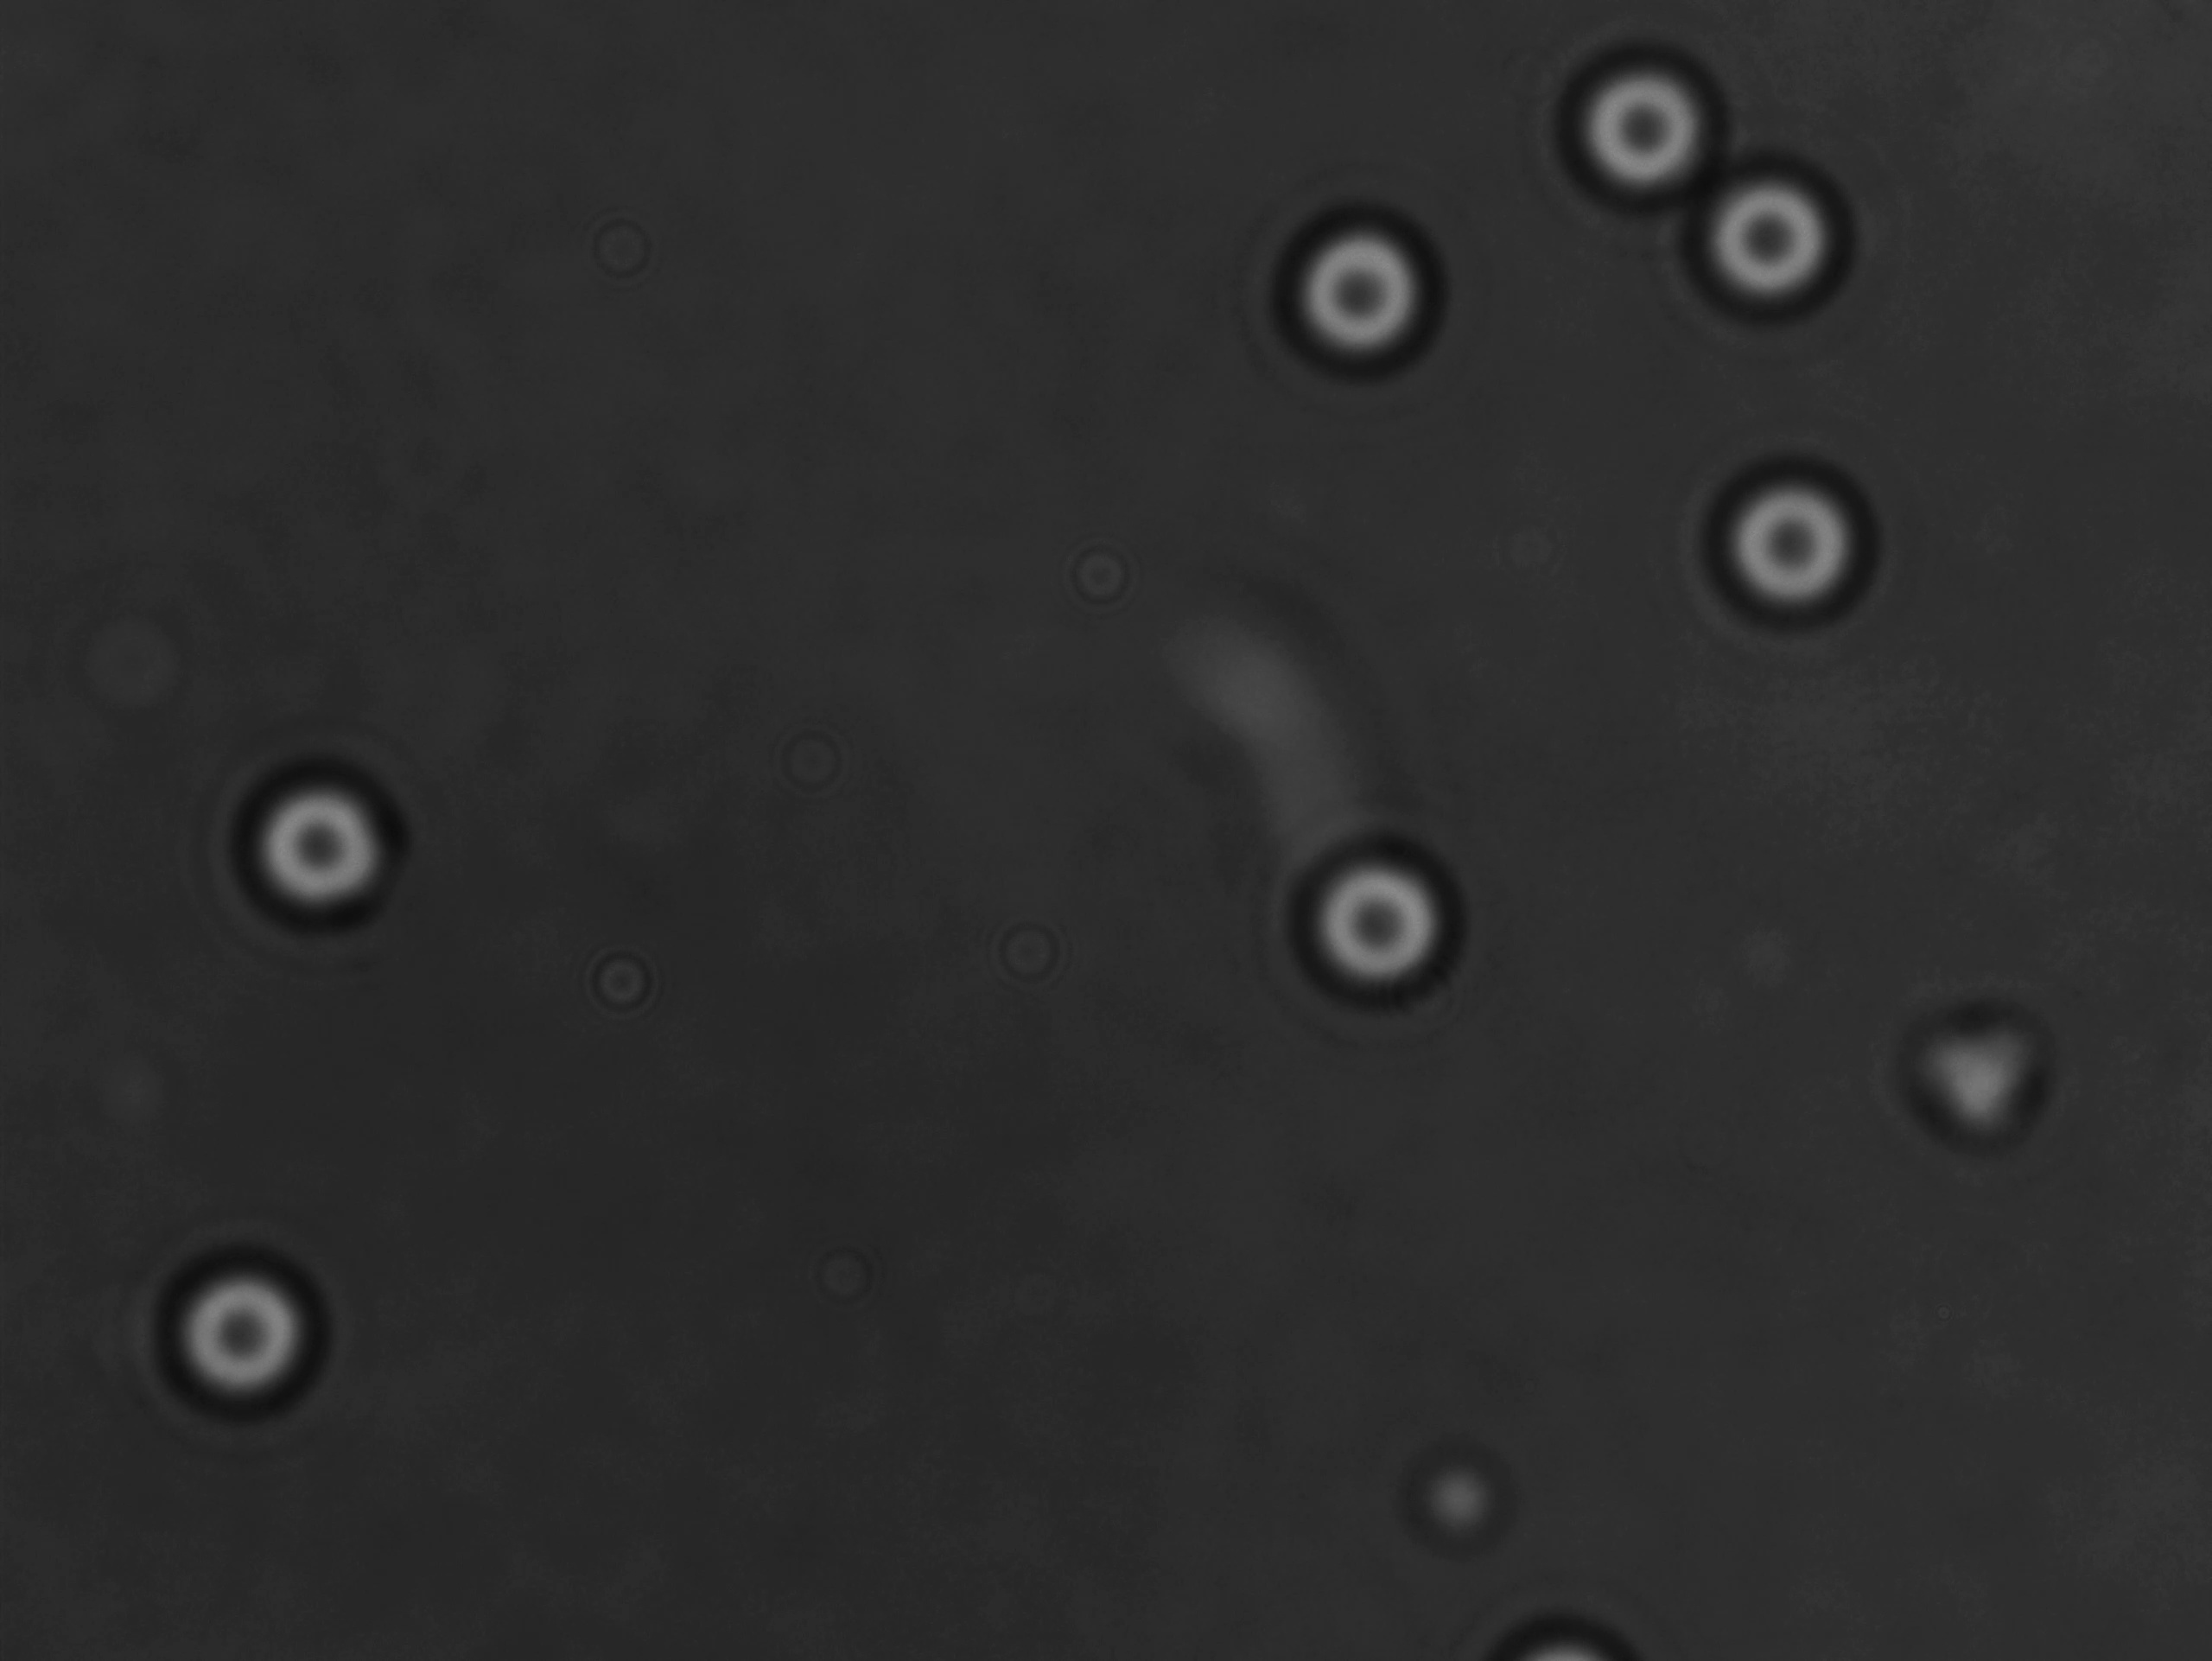depth:80: (122, 1214, 359, 1455), (1293, 811, 1511, 1017), (1682, 433, 1882, 654), (220, 731, 424, 942), (1275, 218, 1455, 410), (1546, 40, 1732, 216), (1671, 141, 1847, 323)
